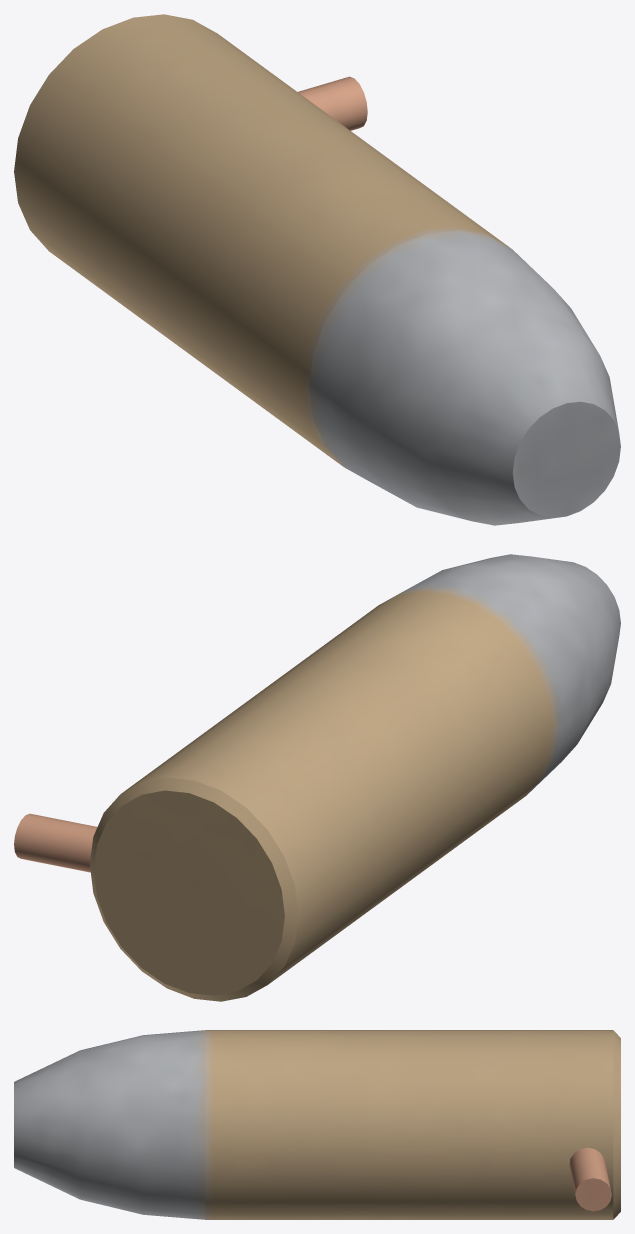
The model's file is SM_Chevallier_01g.fbx.
3 renders of one model, top to bottom at view 1: azimuth 30°, elevation 25°; view 2: azimuth 150°, elevation 25°; view 3: azimuth 270°, elevation 25°, orthographic. The views are drawn at different scales.
Visible parts, largest first — view 1: SM_Chevallier_01g_LOD0; view 2: SM_Chevallier_01g_LOD0; view 3: SM_Chevallier_01g_LOD0.
Part boxes in pixels (x1,y1,x2,y2): SM_Chevallier_01g_LOD0: (14,14,620,525); SM_Chevallier_01g_LOD0: (14,554,620,1001); SM_Chevallier_01g_LOD0: (14,1030,620,1219).
Size of the model in its own units: 1.08 by 2.53 by 0.7934.
